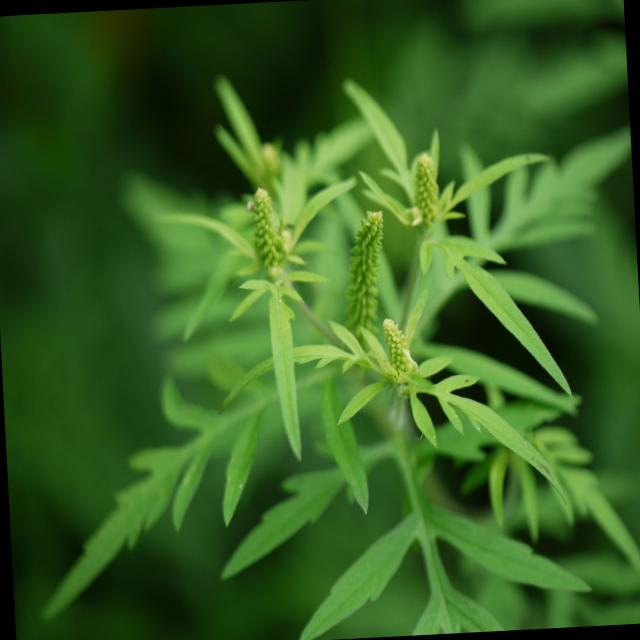ambrosia: (201, 108, 557, 472)
